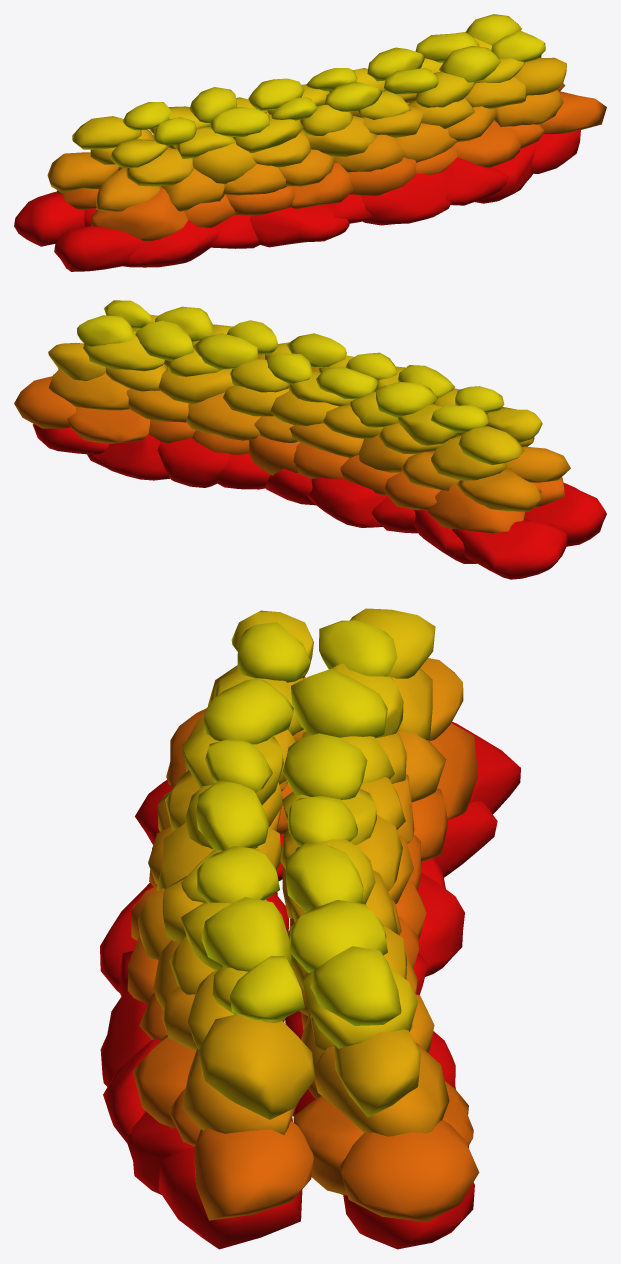
File: camp_windbreak.glb
3 views of the same model, one above another, from view 1: azimuth 30°, elevation 25°; view 2: azimuth 150°, elevation 25°; view 3: azimuth 270°, elevation 25° (orthographic). The views are drawn at different scales.
Parts seen in each view (by area): view 1: Model; view 2: Model; view 3: Model.
Boxes of the visible parts, x1,y1,x2,y2 form: Model: (14,14,606,271); Model: (14,300,606,579); Model: (100,608,520,1249).
Size of the model in its own units: 2.84 by 0.6727 by 0.957.
